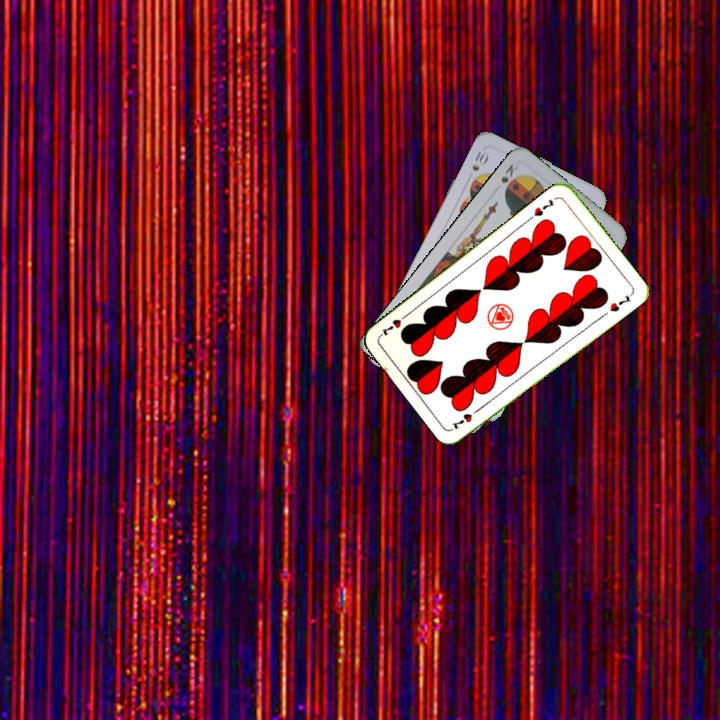H7: (449, 403, 484, 432), (530, 195, 557, 219)
S10: (468, 147, 491, 174)
SK: (497, 159, 521, 186)
